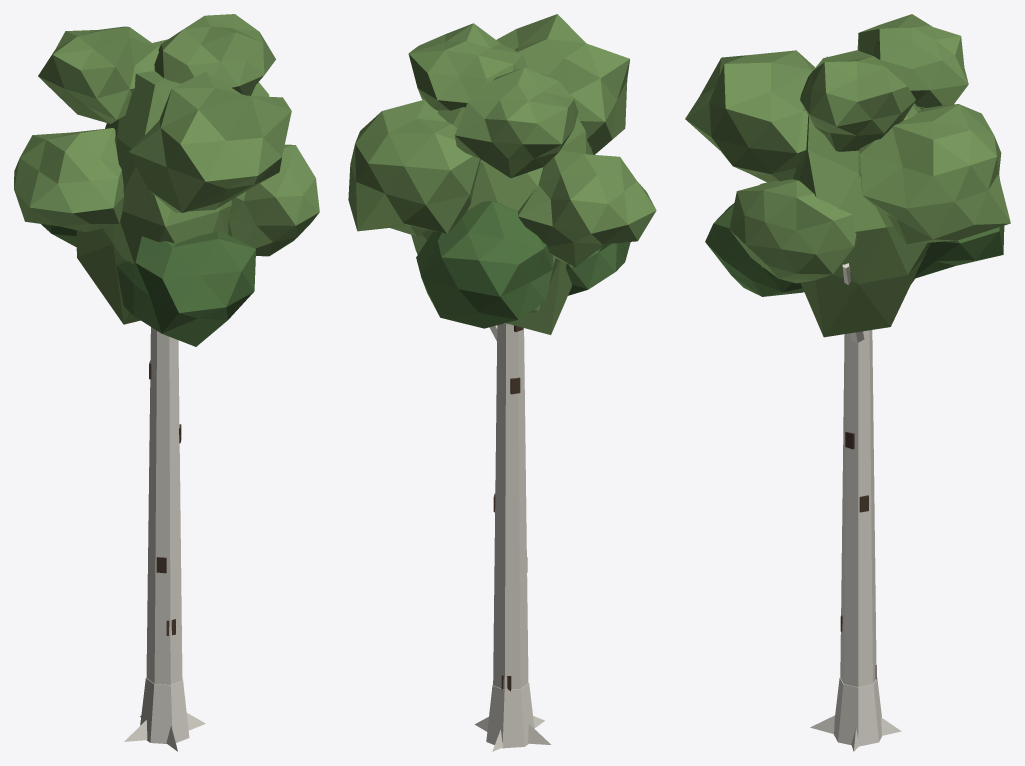
Rendered from tree_birch.glb.
3 renders of one model, left to right at view 1: azimuth 30°, elevation 25°; view 2: azimuth 150°, elevation 25°; view 3: azimuth 270°, elevation 25°, orthographic.
Parts seen in each view (by area): view 1: tree_birch; view 2: tree_birch; view 3: tree_birch.
Part boxes in pixels (x1=…): tree_birch: x1=14, y1=14, x2=319, y2=751; tree_birch: x1=348, y1=14, x2=656, y2=751; tree_birch: x1=685, y1=14, x2=1010, y2=751.
Size of what is drawn, in the model's own units: 2.26 by 5.59 by 2.36.
Materials: 1 (1 with a texture image).
